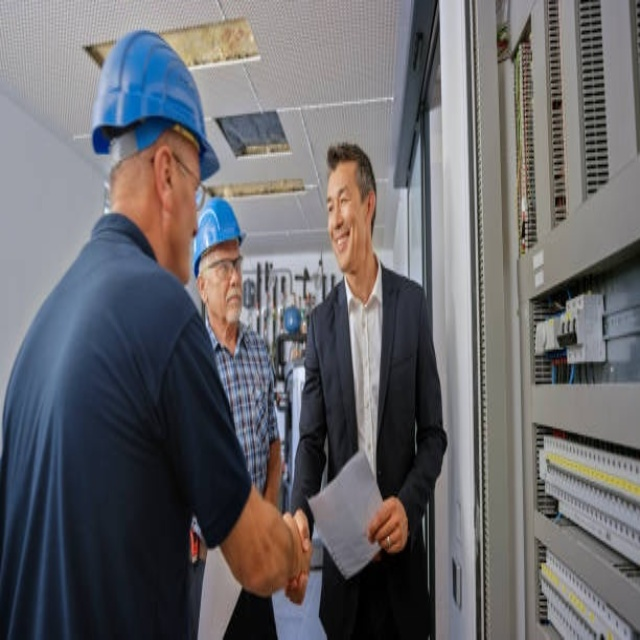Gafas: (149, 148, 204, 206), (201, 254, 244, 280)
Sin_gafas: (324, 181, 356, 215)
Sin_guantes: (282, 509, 312, 605), (366, 494, 408, 558)
Sin_mascara: (329, 223, 353, 260), (221, 289, 243, 317)
